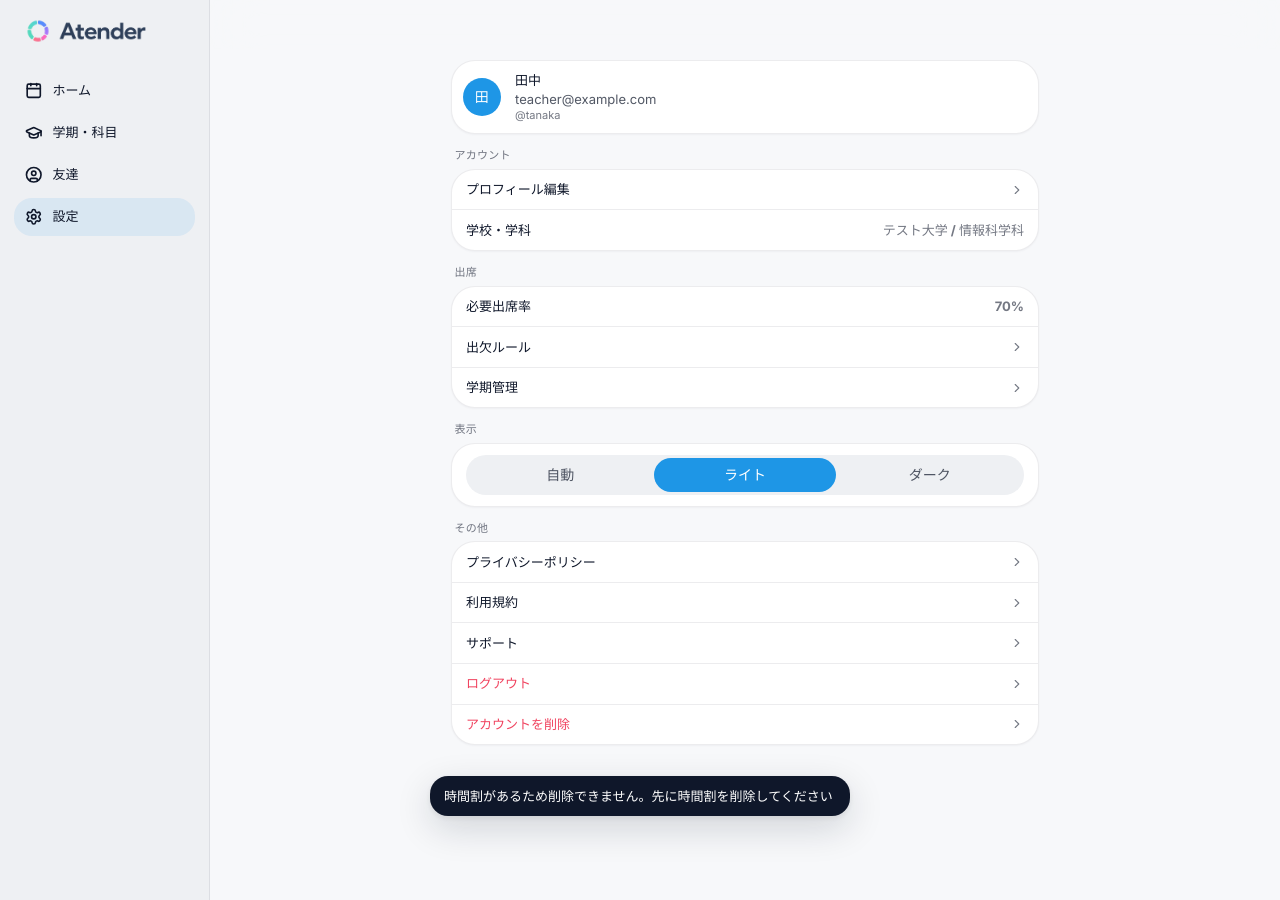
Test: [SM] semester list sheet › [SM20b] delete 500 -> generic toast
Click the button "学期管理".
click(492, 387)  # box [452,368,1038,407]
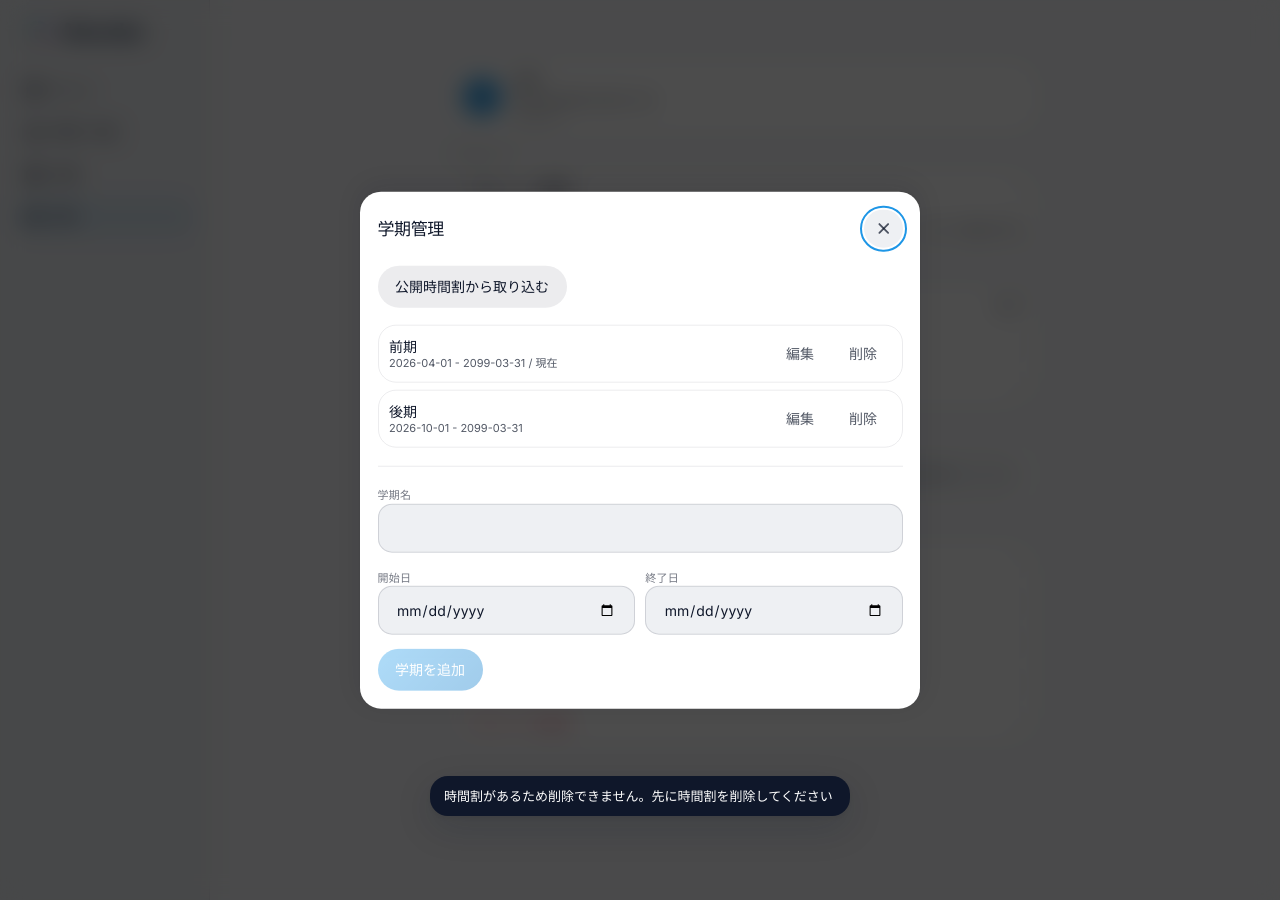
Click the 2nd button "削除".
click(863, 419)  # box [835,401,891,436]
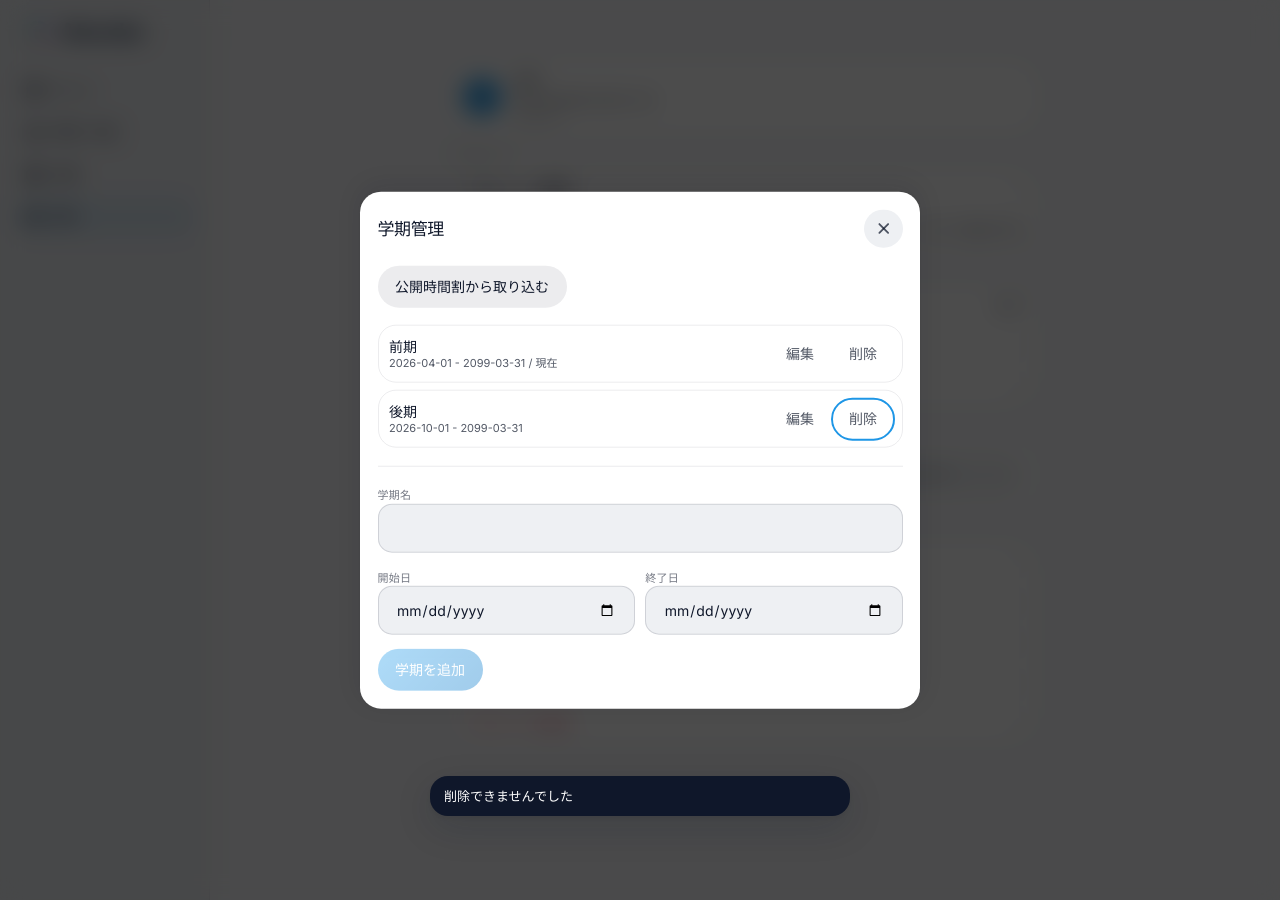
Now the text "削除できませんでした" is shown, box [430,776,850,816]
